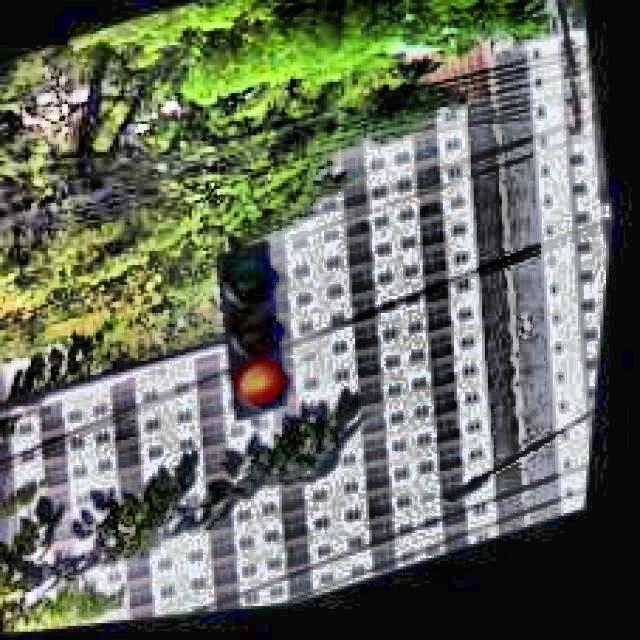red: (224, 249, 295, 421)
